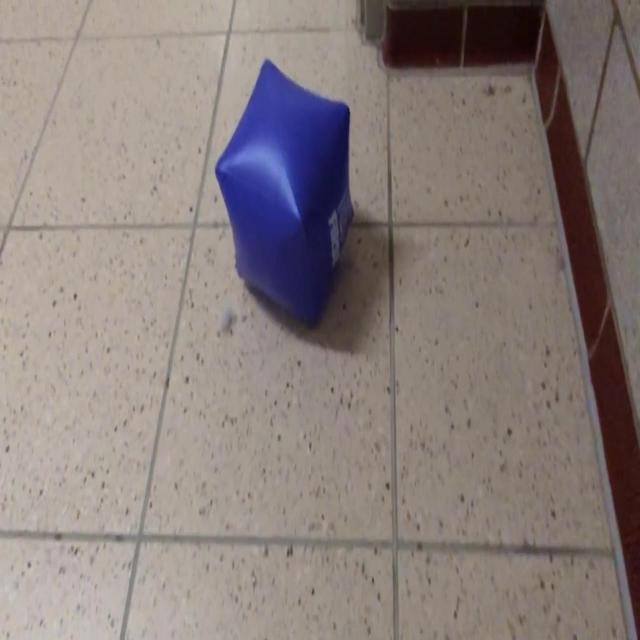frc_cube: (214, 59, 356, 324)
